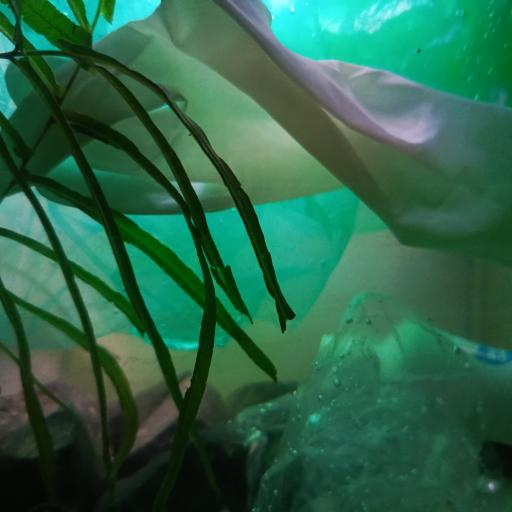glove: (0, 0, 512, 259)
plastic_bag: (0, 0, 512, 350), (229, 287, 511, 512)
plastic_bottle: (319, 321, 512, 437)
